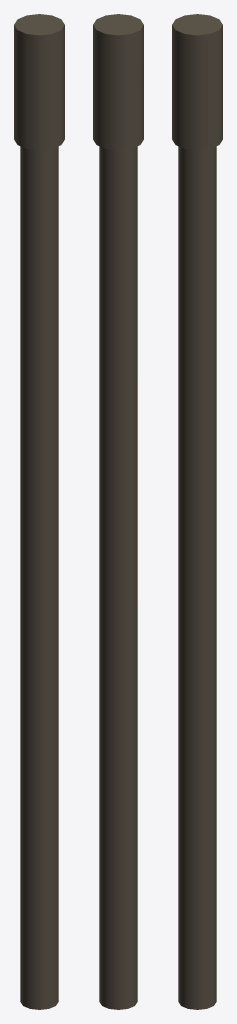
The model's file is Lever.FBX.
3 renders of one model, left to right at view 1: azimuth 90°, elevation 25°; view 2: azimuth 150°, elevation 25°; view 3: azimuth 270°, elevation 25°, orthographic.
Visible parts, largest first — view 1: Lever; view 2: Lever; view 3: Lever.
Part boxes in pixels (x1,y1,x2,y2): Lever: (14,14,64,1009); Lever: (93,14,143,1009); Lever: (172,14,222,1009).
Size of what is drawn, in the model's own units: 6 by 6 by 128.
